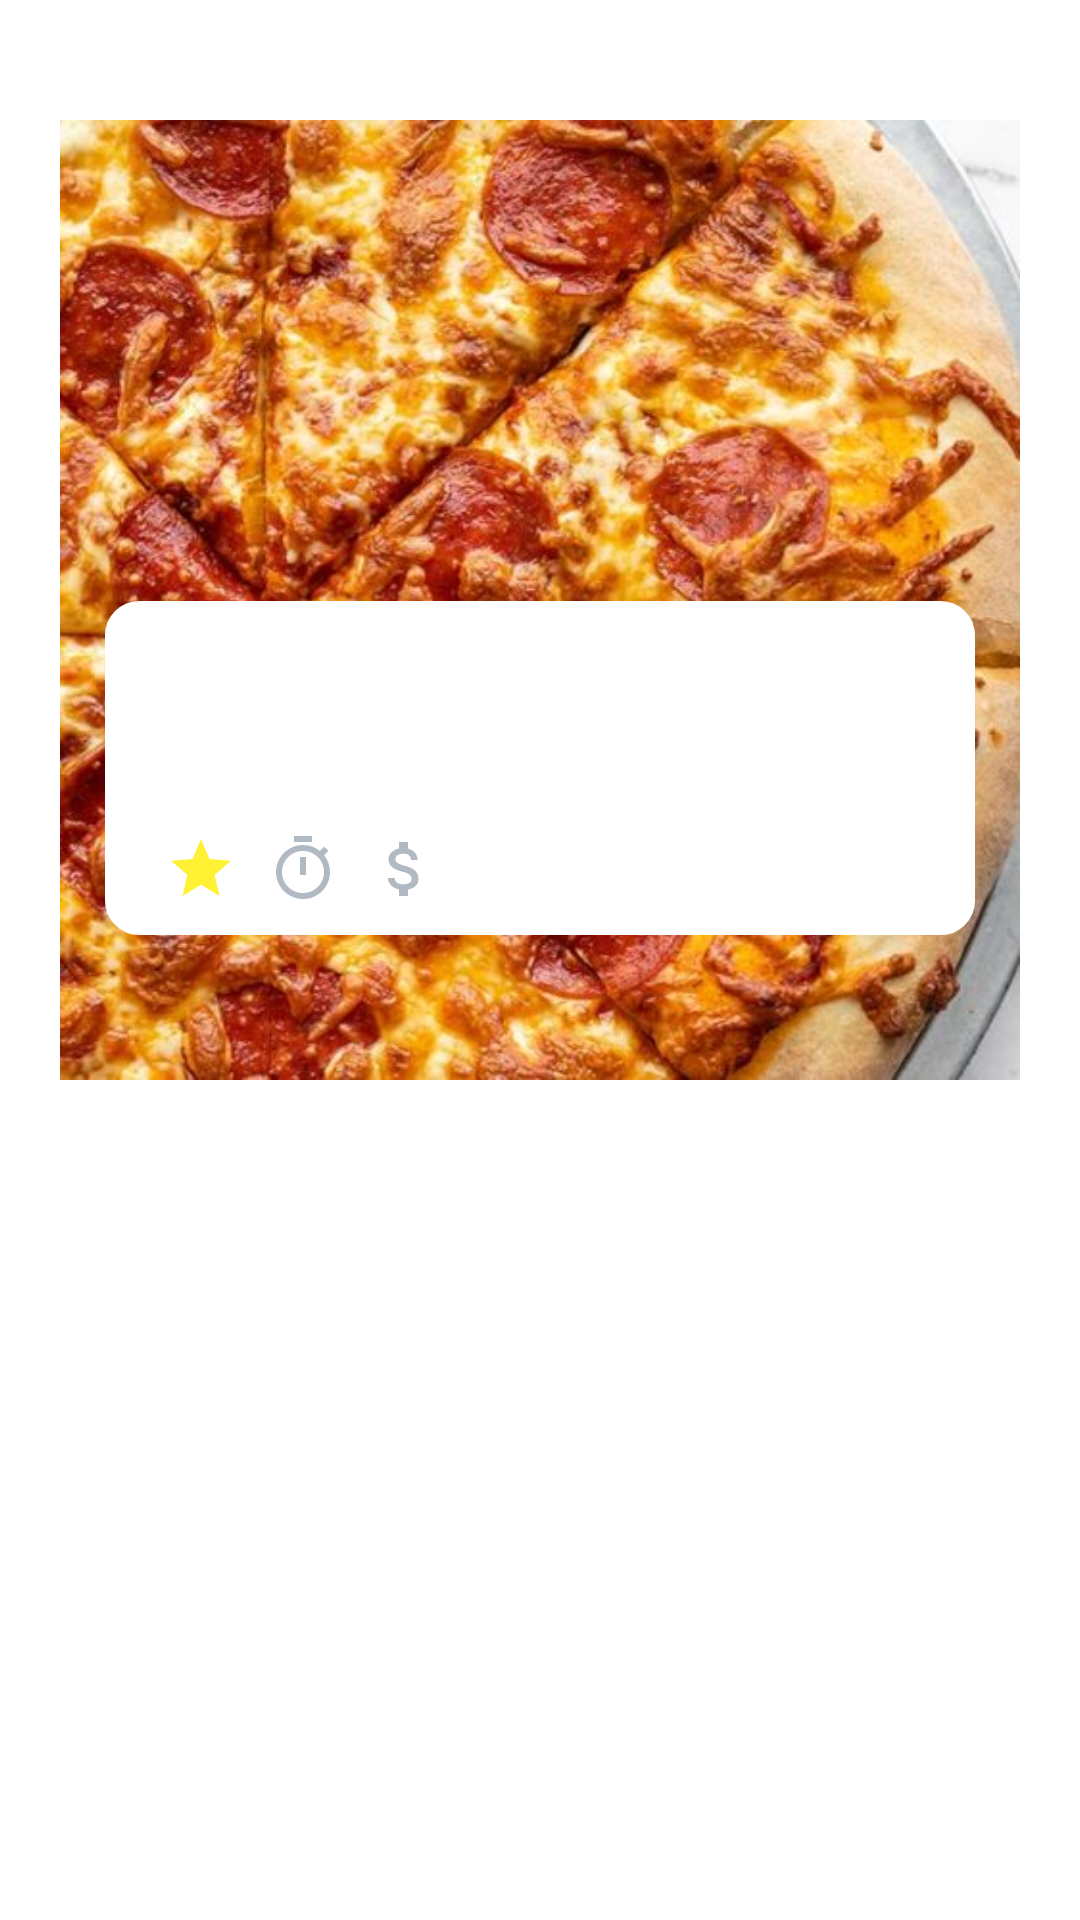

Where to tap for icons on this 1080w x 1920h app screen, as (x=x, y=y):
rating: (x=201, y=867)
servicecharge: (x=403, y=869)
timetaken: (x=303, y=867)
